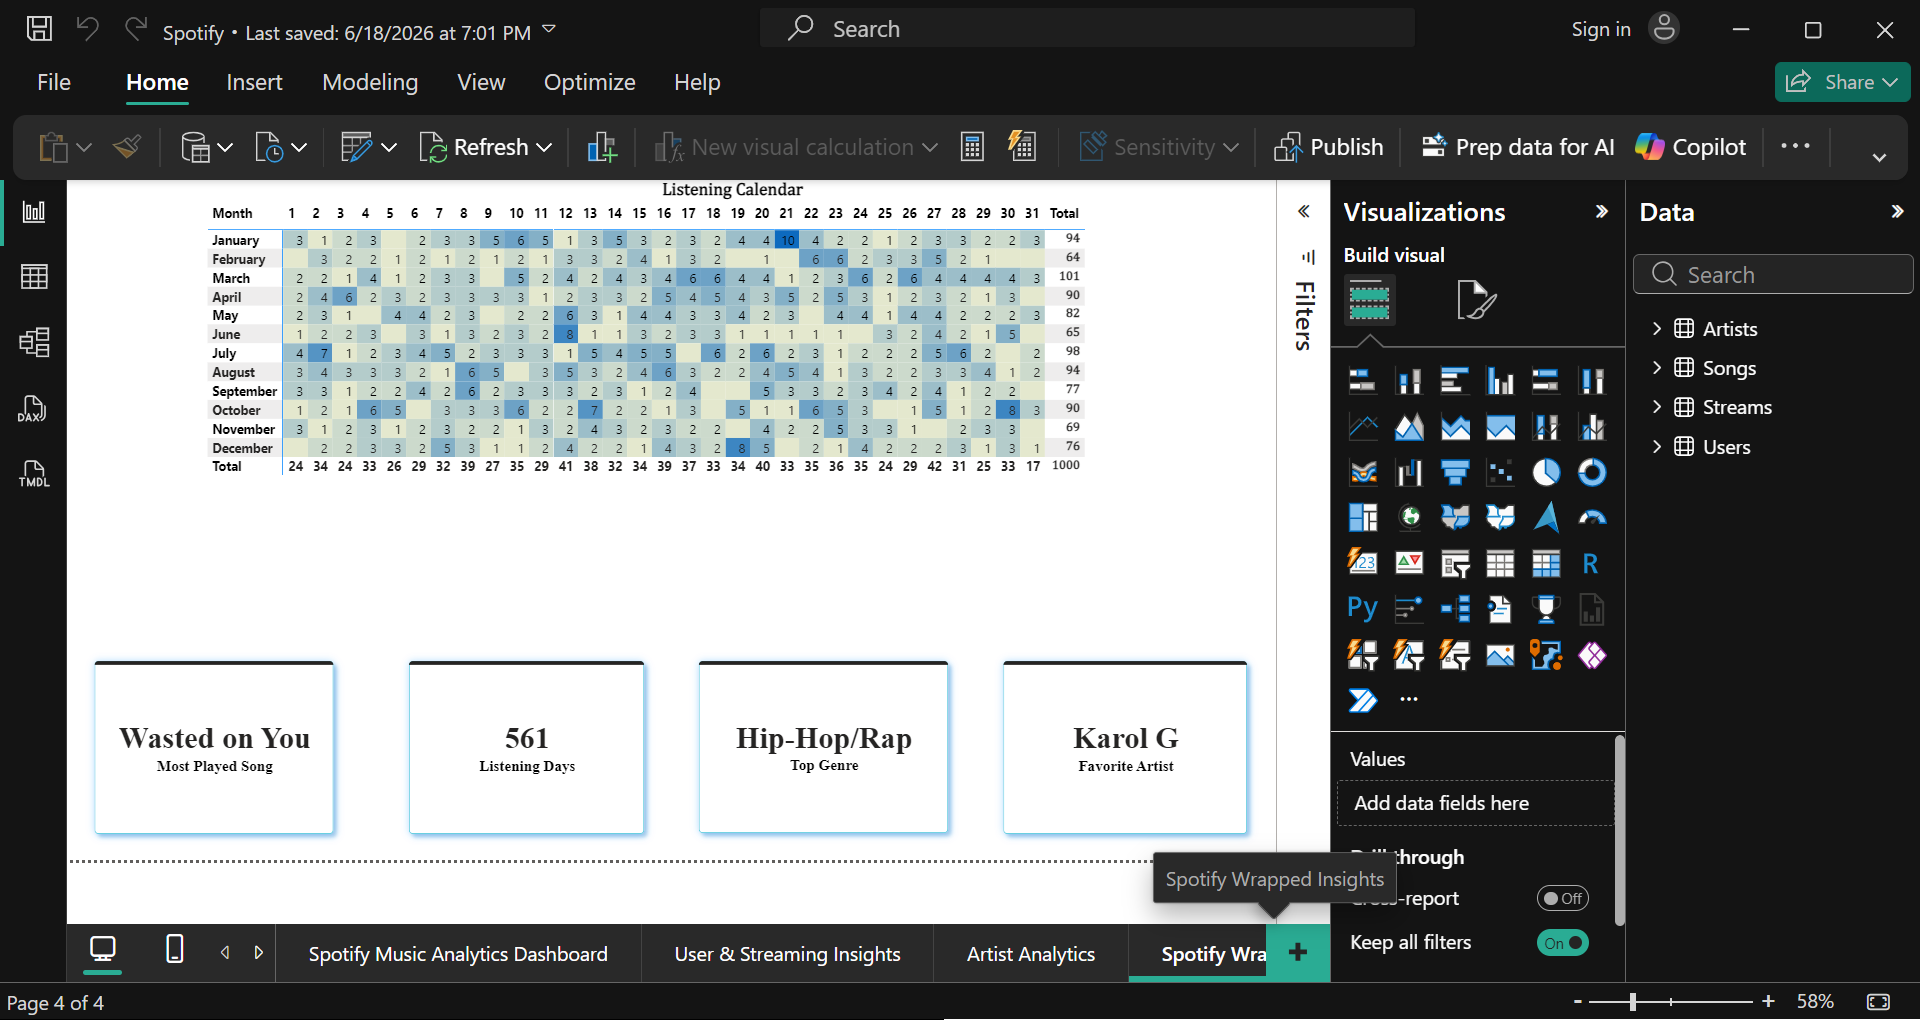

What the dashboard file says about the page in this screenshot:
{"tool":"powerbi","page":{"name":"Spotify Wrapped Insights","canvas":[1280,720],"ordinal":3},"visuals":[{"type":"cardVisual","fields":{"Data":["Songs.Top Song"]},"box":[0,479.2,311.3,241.5],"z":0},{"type":"cardVisual","fields":{"Data":["Artists.Favorite Artist"]},"box":[962.3,479.2,317,241.5],"z":1000},{"type":"cardVisual","fields":{"Data":["Artists.Top Genre"]},"box":[639.4,480,322.3,240.9],"z":2000},{"type":"cardVisual","fields":{"Data":["Streams.Listening Days"]},"box":[332.1,479.2,307.5,241.5],"z":3000},{"type":"pivotTable","title":"Listening Calendar","fields":{"Rows":["Streams.Stream_Date.Variation.Date Hierarchy.Month"],"Columns":["Streams.Stream_Date.Variation.Date Hierarchy.Day"],"Values":["Streams.Daily Streams"]},"box":[143.8,0,1121.1,410.7],"z":4000}]}

Visuals, with their boxes on the page's 1280x720 design canvas (x1, y1, x2, y2). These are canvas units, not pixel positions in the 1920x1020 screenshot, which may show the page scaled, cropped or inside an application window:
cardVisual - Songs.Top Song: [0, 479, 311, 721]
cardVisual - Artists.Favorite Artist: [962, 479, 1279, 721]
cardVisual - Artists.Top Genre: [639, 480, 962, 721]
cardVisual - Streams.Listening Days: [332, 479, 640, 721]
"Listening Calendar" pivotTable: [144, 0, 1265, 411]
